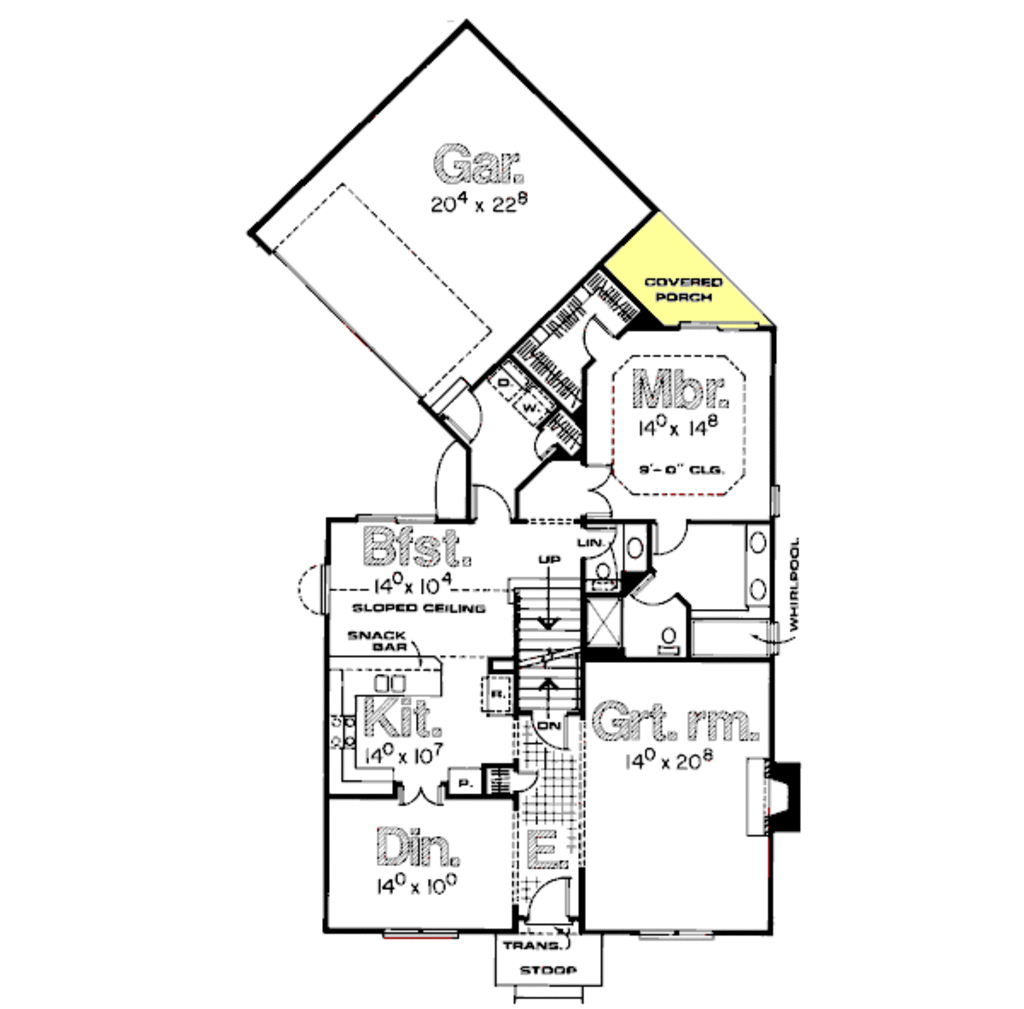door: (522, 875, 575, 926), (443, 387, 489, 443), (579, 463, 618, 521), (468, 480, 515, 527), (530, 708, 575, 755), (576, 310, 613, 362), (653, 519, 694, 561), (631, 574, 677, 610), (395, 778, 446, 807), (530, 428, 555, 460)
large_sink: (651, 623, 683, 659), (584, 559, 614, 594)
small_sink: (739, 518, 775, 609), (621, 520, 653, 572)
stairs: (504, 579, 582, 710)
twin_sink: (361, 668, 412, 695)
window: (376, 922, 466, 943), (637, 924, 718, 947), (351, 510, 440, 530), (764, 617, 782, 658), (765, 481, 782, 519)
